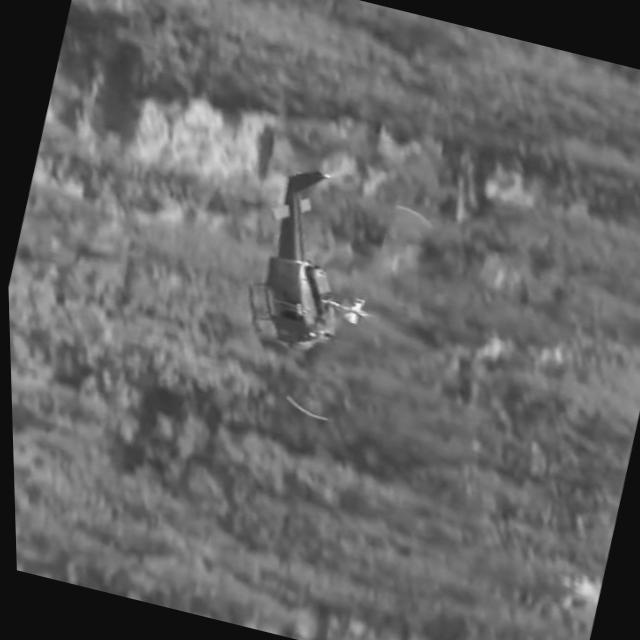helikopter: (205, 147, 399, 391)
